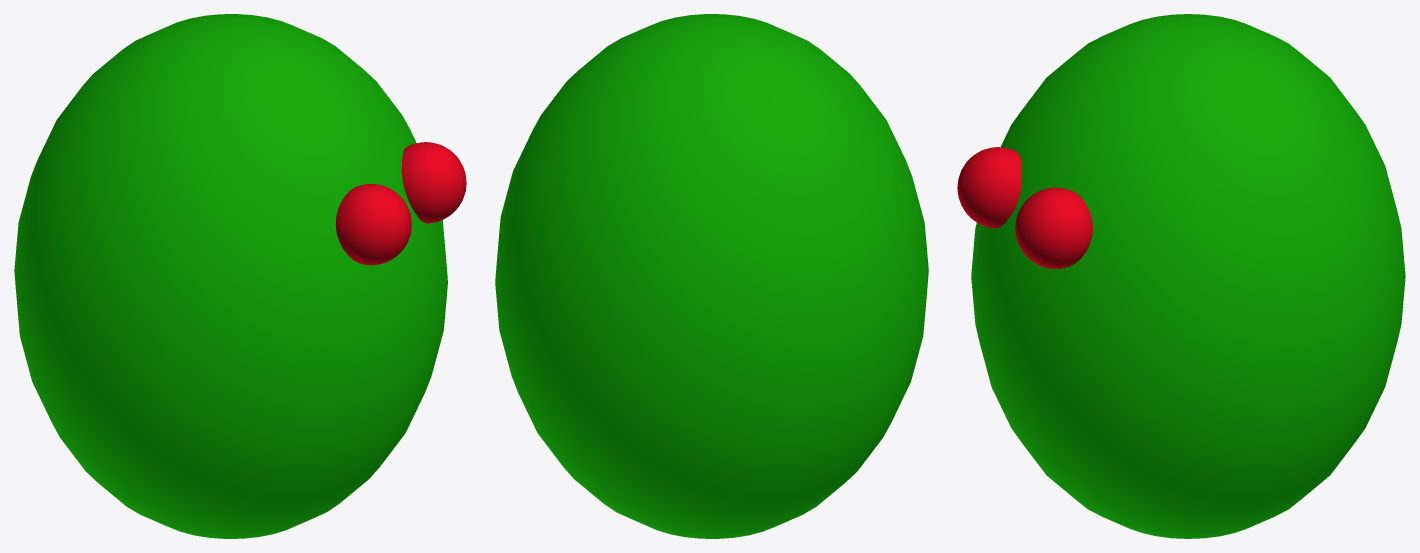
Rendered from watermellon.fbx.
The picture shows the model from 3 angles, left to right: view 1: azimuth 30°, elevation 25°; view 2: azimuth 150°, elevation 25°; view 3: azimuth 270°, elevation 25°; orthographic projection.
Visible parts, largest first — view 1: Sphere, Sphere.001, Sphere.003; view 2: Sphere; view 3: Sphere, Sphere.003, Sphere.001.
Boxes of the visible parts, x1=… form: Sphere: x1=14, y1=14, x2=447, y2=538; Sphere.001: x1=335, y1=184, x2=411, y2=265; Sphere.003: x1=401, y1=142, x2=466, y2=223; Sphere: x1=495, y1=14, x2=928, y2=538; Sphere: x1=971, y1=14, x2=1405, y2=538; Sphere.003: x1=1015, y1=187, x2=1092, y2=268; Sphere.001: x1=957, y1=147, x2=1021, y2=228.
Size of the model in its own units: 240 by 300 by 248.
